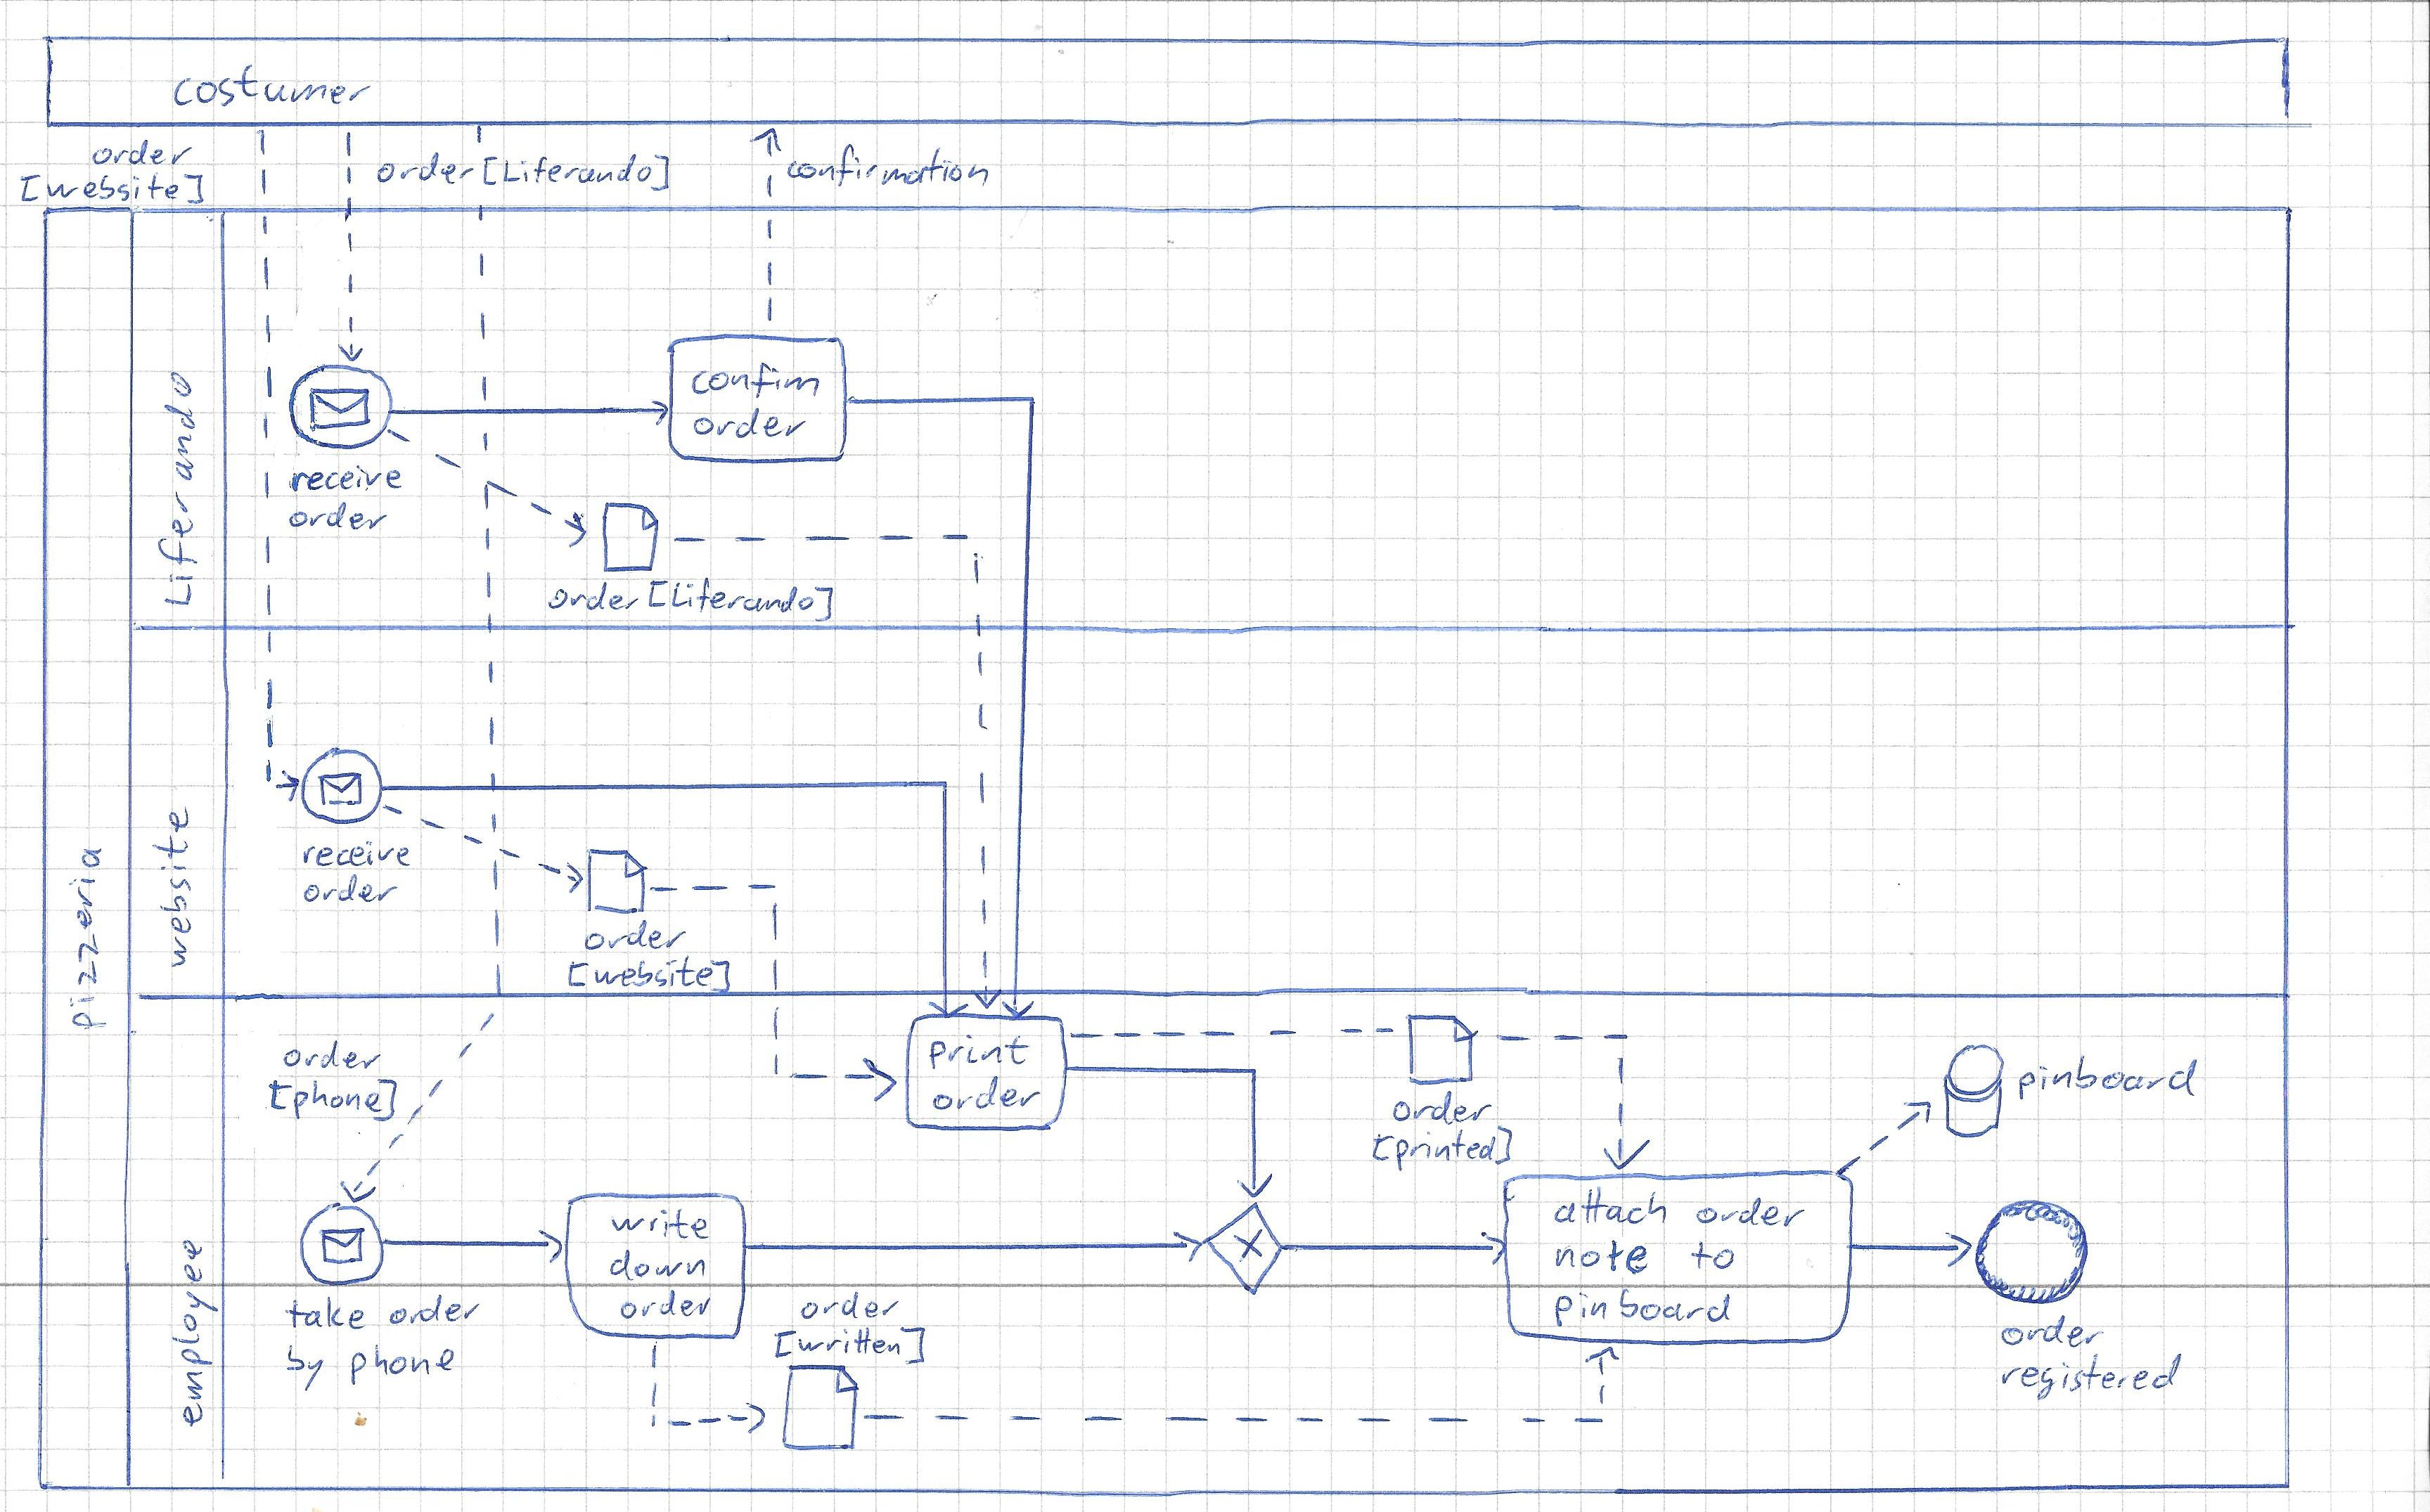Liferando: (153, 368, 200, 611)
[Liferando]: (481, 150, 671, 193), (648, 580, 840, 620)
[phone]: (267, 1075, 399, 1120)
[printed]: (1367, 1125, 1515, 1169)
[website]: (17, 171, 211, 202), (563, 958, 740, 988)
[written]: (766, 1324, 932, 1364)
attach: (1549, 1188, 1671, 1226)
by: (279, 1341, 334, 1399)
confim: (690, 361, 824, 406)
confirmation: (780, 143, 995, 193)
costumer: (172, 63, 376, 111)
down: (606, 1249, 709, 1282)
employee: (167, 1235, 219, 1428)
note: (1550, 1239, 1657, 1273)
order: (930, 1073, 1047, 1118), (1690, 1190, 1808, 1233), (375, 150, 479, 192), (1390, 1089, 1500, 1127), (690, 409, 808, 444), (387, 1291, 481, 1334), (580, 918, 692, 955), (798, 1289, 901, 1326), (2000, 1315, 2106, 1350), (287, 500, 394, 535), (540, 580, 643, 615), (303, 873, 399, 909), (280, 1040, 383, 1073), (617, 1289, 714, 1322), (87, 139, 195, 169)
phone: (347, 1338, 460, 1385)
pinboard: (2014, 1054, 2204, 1099), (1552, 1289, 1735, 1324)
pizzeria: (70, 845, 120, 1031)
print: (927, 1033, 1031, 1071)
receive: (287, 465, 406, 502), (300, 841, 413, 871)
registered: (1996, 1352, 2188, 1399)
take: (279, 1294, 373, 1331)
to: (1686, 1235, 1740, 1275)
website: (150, 805, 199, 975)
write: (603, 1209, 712, 1244)
